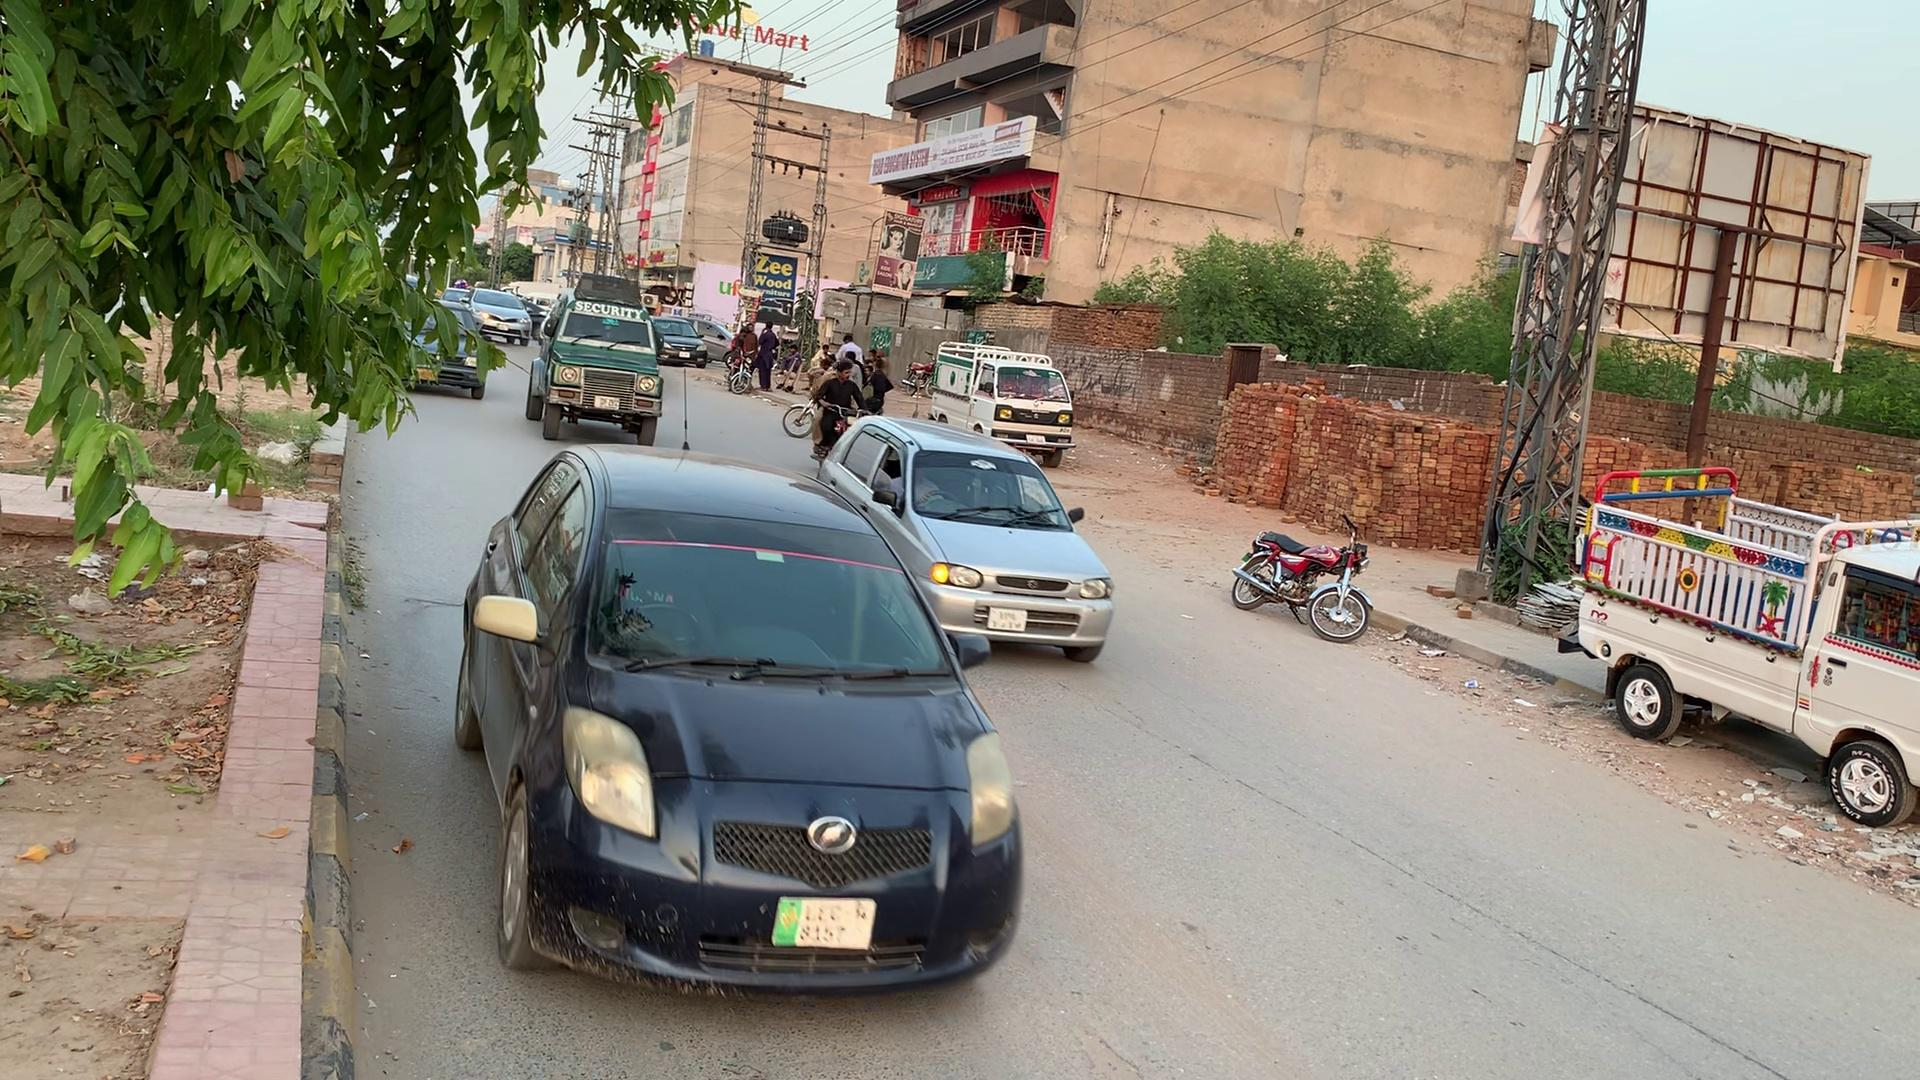windshield: (571, 491, 964, 694), (911, 440, 1084, 539)
